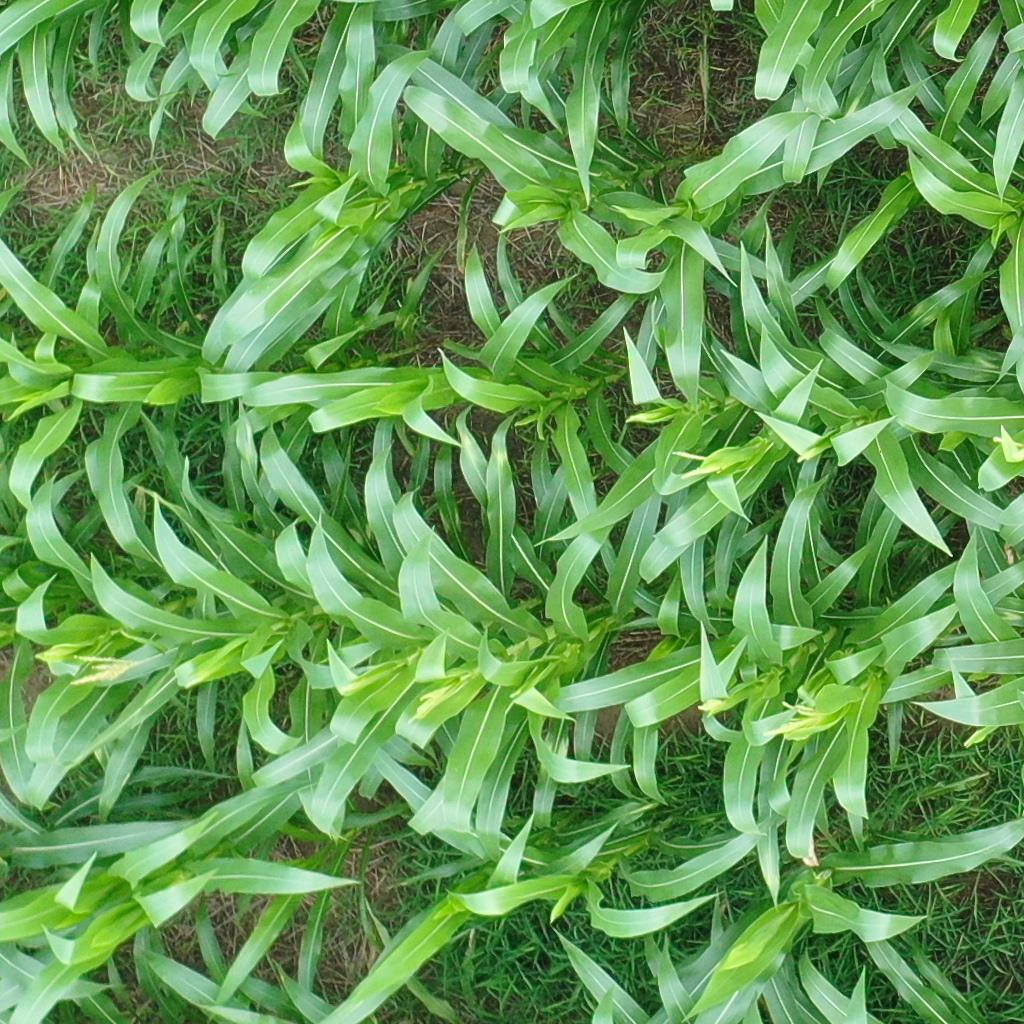Tassel: (754, 697, 817, 744), (69, 649, 134, 688), (400, 683, 452, 723), (670, 449, 725, 479), (693, 693, 723, 713)
